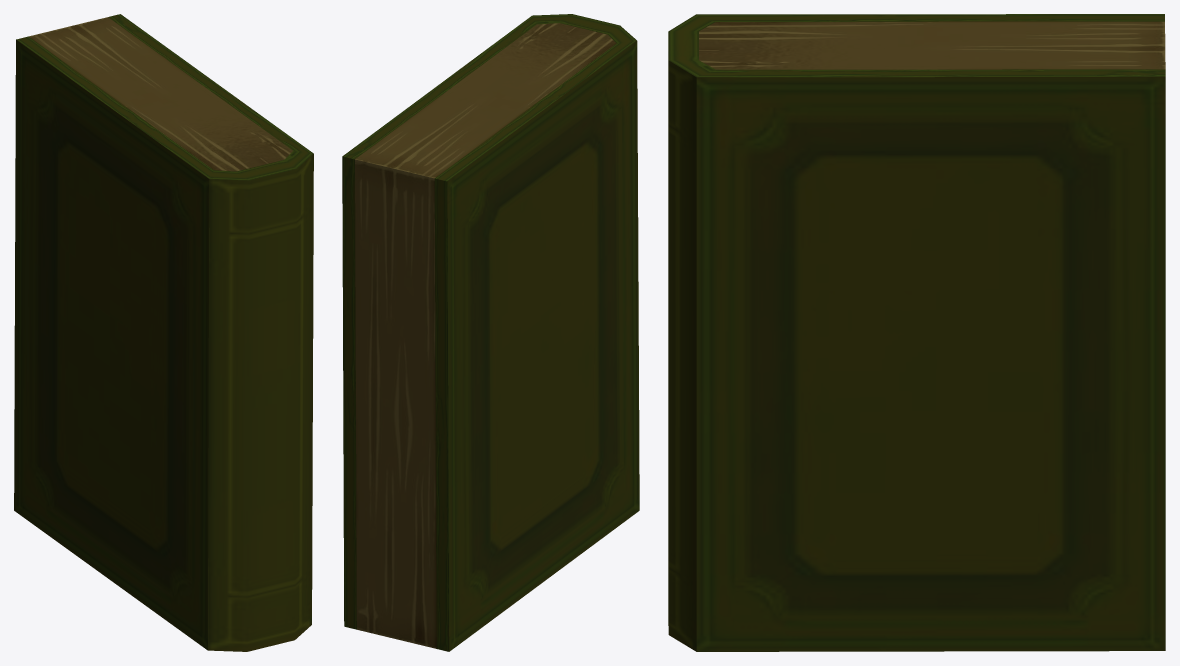
Rendered from book_simplified_single.gltf.
3 views of the same model, side by side, from view 1: azimuth 30°, elevation 25°; view 2: azimuth 150°, elevation 25°; view 3: azimuth 270°, elevation 25° (orthographic). The views are drawn at different scales.
Parts seen in each view (by area): view 1: Book_Simplified_Single; view 2: Book_Simplified_Single; view 3: Book_Simplified_Single.
Part boxes in pixels (x1,y1,x2,y2): Book_Simplified_Single: (14, 14, 313, 651); Book_Simplified_Single: (342, 14, 639, 651); Book_Simplified_Single: (668, 14, 1165, 651).
Bounding box in the file's own units: 0.0646 × 0.2683 × 0.21.
Materials: 1 (1 with a texture image).
